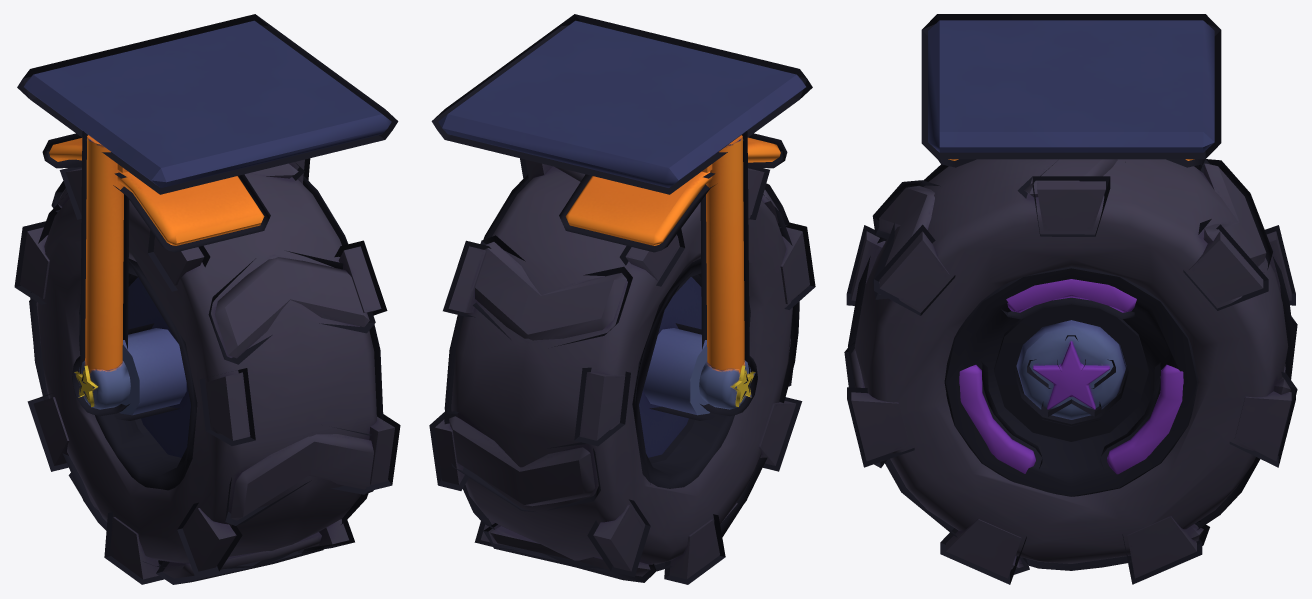
Rendered from R4M_Wheel_LOD1.fbx.
The picture shows the model from 3 angles, left to right: view 1: azimuth 30°, elevation 25°; view 2: azimuth 150°, elevation 25°; view 3: azimuth 270°, elevation 25°; orthographic projection. The views are drawn at different scales.
Visible parts, largest first — view 1: R4M_Wheel_LOD1; view 2: R4M_Wheel_LOD1; view 3: R4M_Wheel_LOD1.
Part boxes in pixels (x1=…): R4M_Wheel_LOD1: x1=14, y1=14, x2=400, y2=584; R4M_Wheel_LOD1: x1=429, y1=14, x2=815, y2=584; R4M_Wheel_LOD1: x1=844, y1=14, x2=1297, y2=584.
Bounding box in the file's own units: 0.5226 × 0.9205 × 0.7903.
2 materials, 1 textured.
